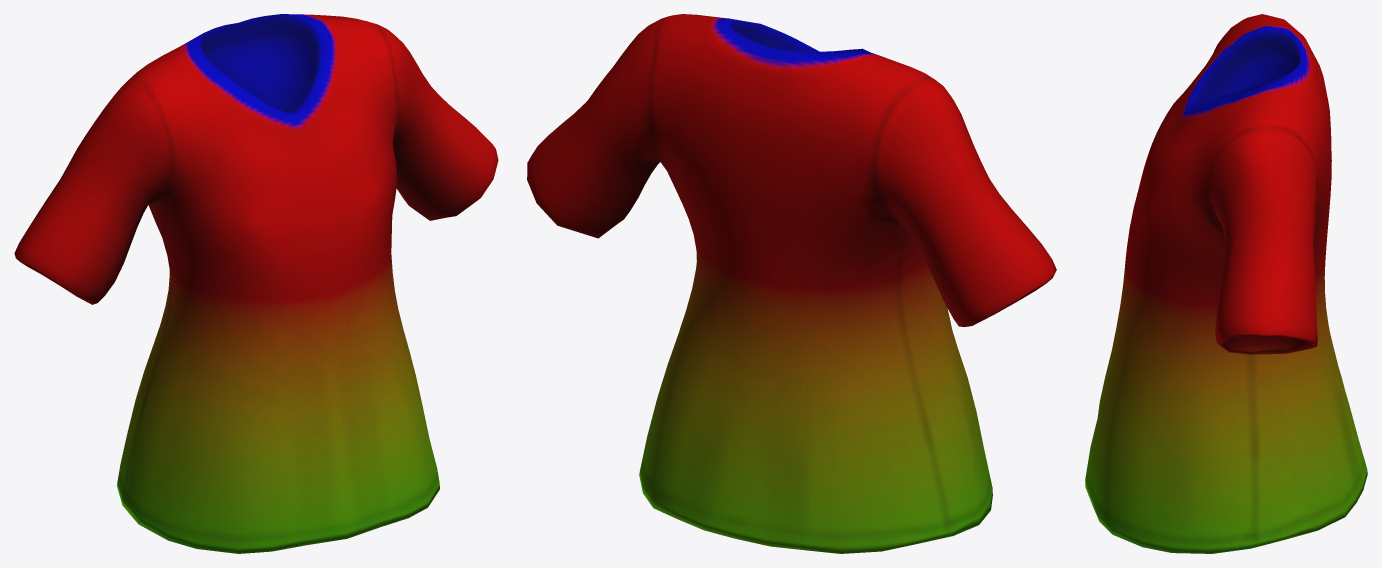
Rendered from Top_HealthCare.obj.
3 renders of one model, left to right at view 1: azimuth 30°, elevation 25°; view 2: azimuth 150°, elevation 25°; view 3: azimuth 270°, elevation 25°, orthographic. The views are drawn at different scales.
Visible parts, largest first — view 1: Top_HealthCare_0; view 2: Top_HealthCare_0; view 3: Top_HealthCare_0.
Part boxes in pixels (x1=…): Top_HealthCare_0: x1=14, y1=14, x2=498, y2=553; Top_HealthCare_0: x1=527, y1=14, x2=1056, y2=553; Top_HealthCare_0: x1=1085, y1=14, x2=1367, y2=553.
Bounding box in the file's own units: 0.6471 × 0.5783 × 0.34.
1 material, 1 textured.
